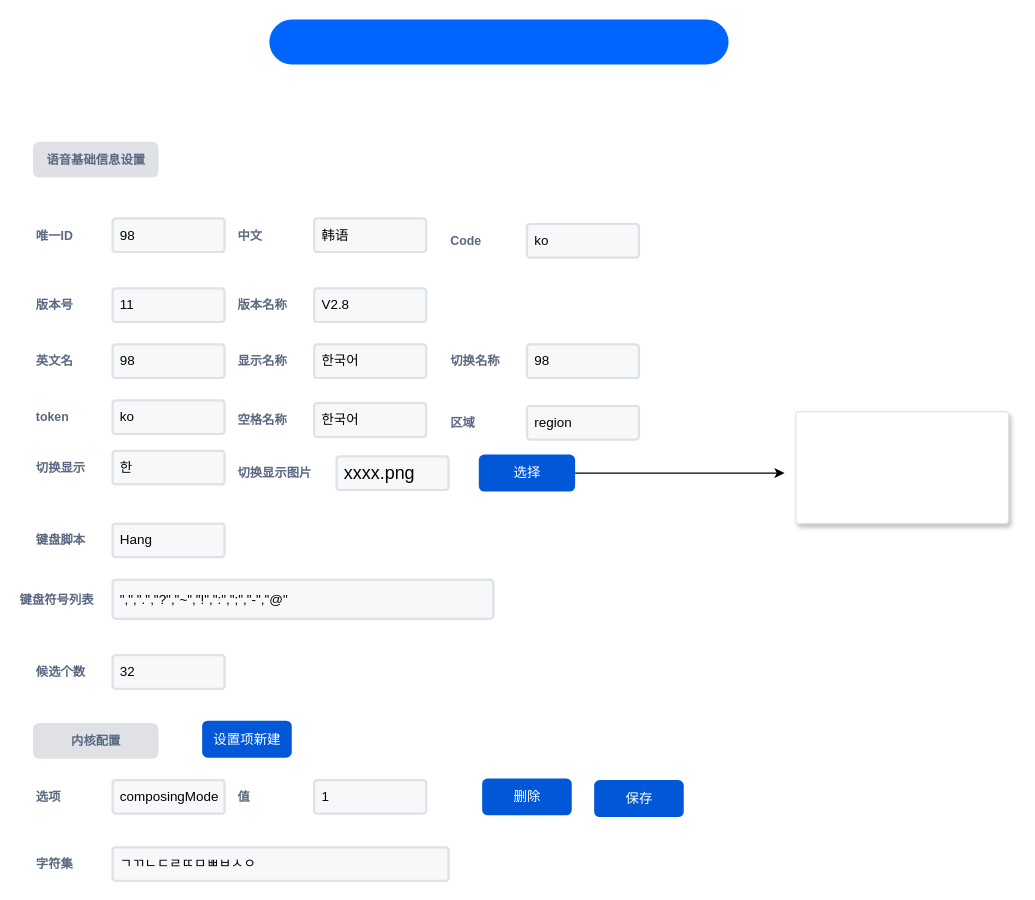
Image size: 1035x900. Some labels were removed from this diagram. The centre of each missing label's shape, as x and y in pixels:
"IOS: 字段 KEYBOARD_SWITCH_IMAGE" belongs at [902,468].
"语言基础设置" belongs at [498,41].
